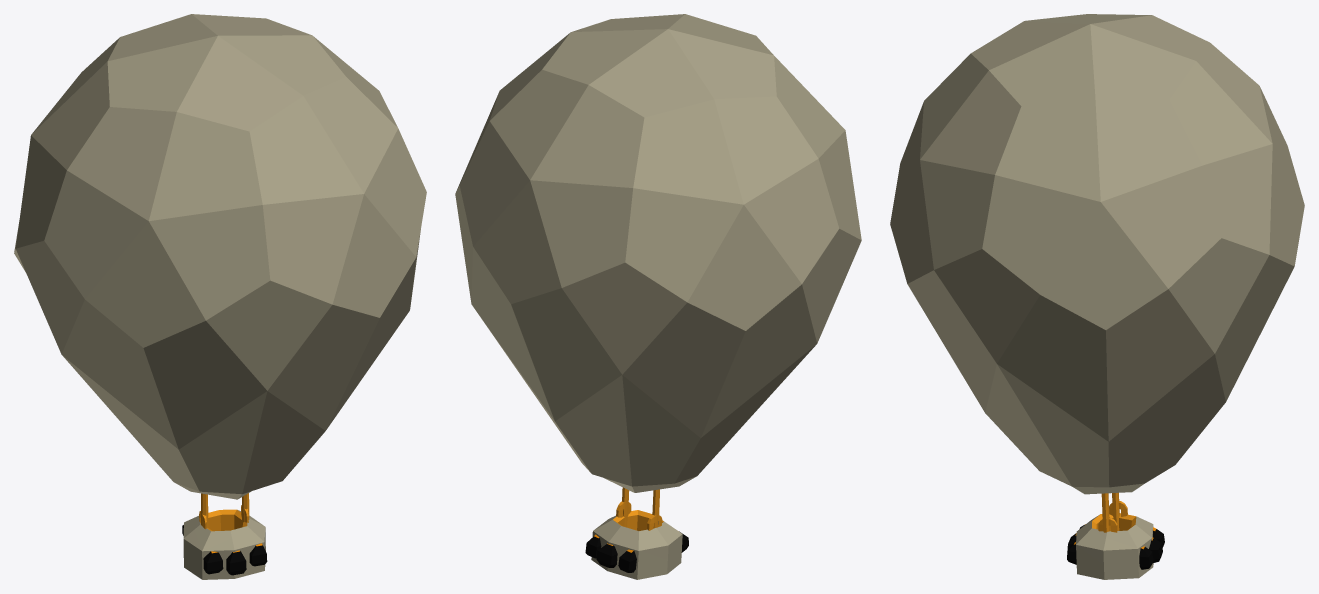
File: Mongolfiera.fbx
The picture shows the model from 3 angles, left to right: view 1: azimuth 30°, elevation 25°; view 2: azimuth 150°, elevation 25°; view 3: azimuth 270°, elevation 25°; orthographic projection. The views are drawn at different scales.
Visible parts, largest first — view 1: hotballoon.001; view 2: hotballoon.001; view 3: hotballoon.001.
Boxes of the visible parts, x1=… form: hotballoon.001: x1=14, y1=14, x2=426, y2=579; hotballoon.001: x1=455, y1=14, x2=861, y2=579; hotballoon.001: x1=890, y1=14, x2=1304, y2=579.
Bounding box in the file's own units: 8373 × 11995 × 8469.
